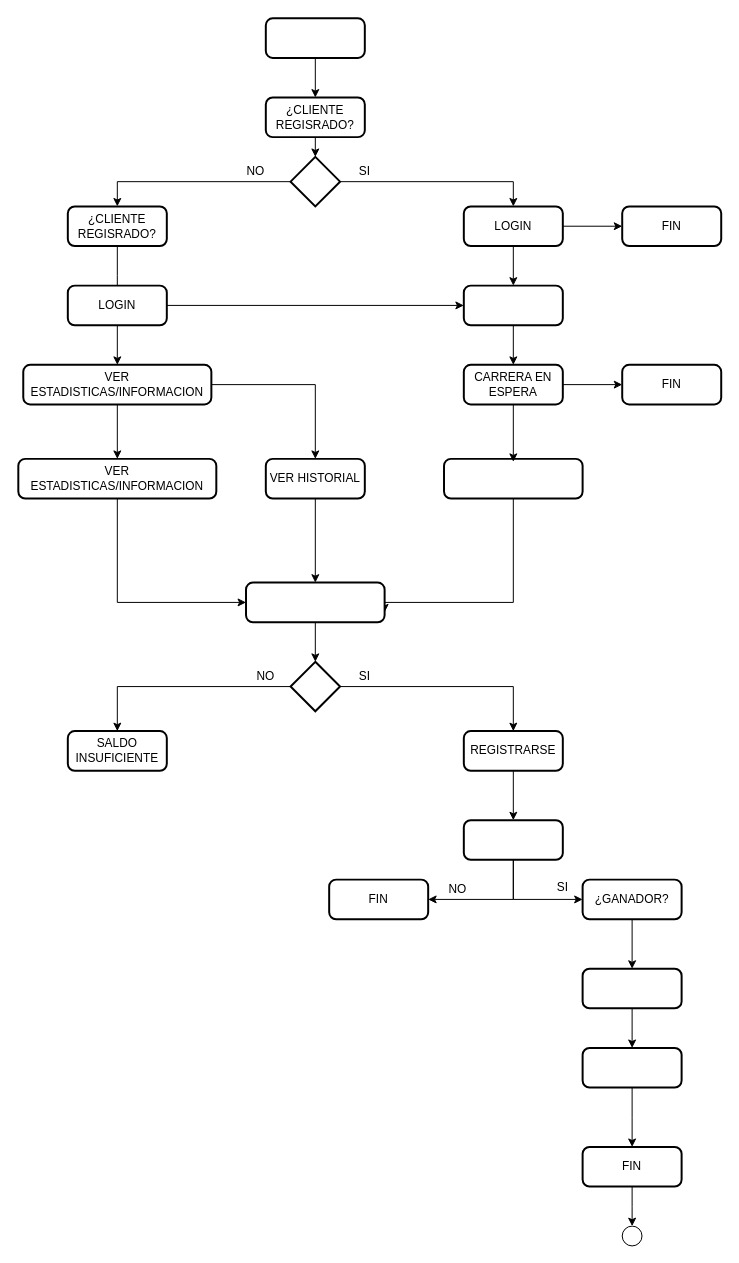
The diagram is 739 pixels wide and 1263 high, and some of its shapes have lost their labels. Here are the shapes that lost their labels. From the top down, the box of each, then its label:
(264, 17, 365, 58): INICIO
(462, 284, 563, 326): DEPOSITAR MONTO
(443, 457, 583, 499): DEPOSITAR/RETIRAR SALDO
(245, 581, 385, 623): SELECCIONAR CARRERA Y CABALLO
(462, 819, 563, 860): INICIAR CARRERA
(581, 967, 682, 1009): NUEVO MONTO
(581, 1046, 682, 1088): REGISTRO CARRERA
